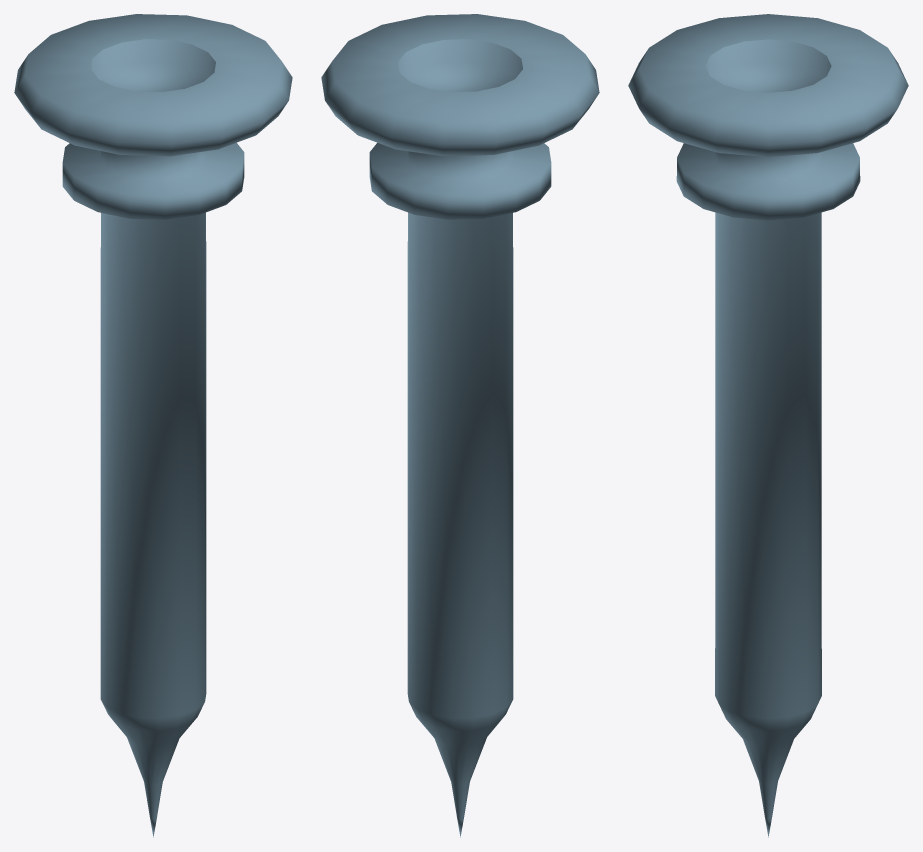
Rendered from Vaccine.fbx.
3 renders of one model, left to right at view 1: azimuth 30°, elevation 25°; view 2: azimuth 150°, elevation 25°; view 3: azimuth 270°, elevation 25°, orthographic.
Parts seen in each view (by area): view 1: Cylinder; view 2: Cylinder; view 3: Cylinder.
Boxes of the visible parts, x1=… form: Cylinder: x1=14, y1=14, x2=292, y2=837; Cylinder: x1=321, y1=14, x2=599, y2=837; Cylinder: x1=628, y1=14, x2=908, y2=837.
Bounding box in the file's own units: 76.21 × 231 × 76.21.
